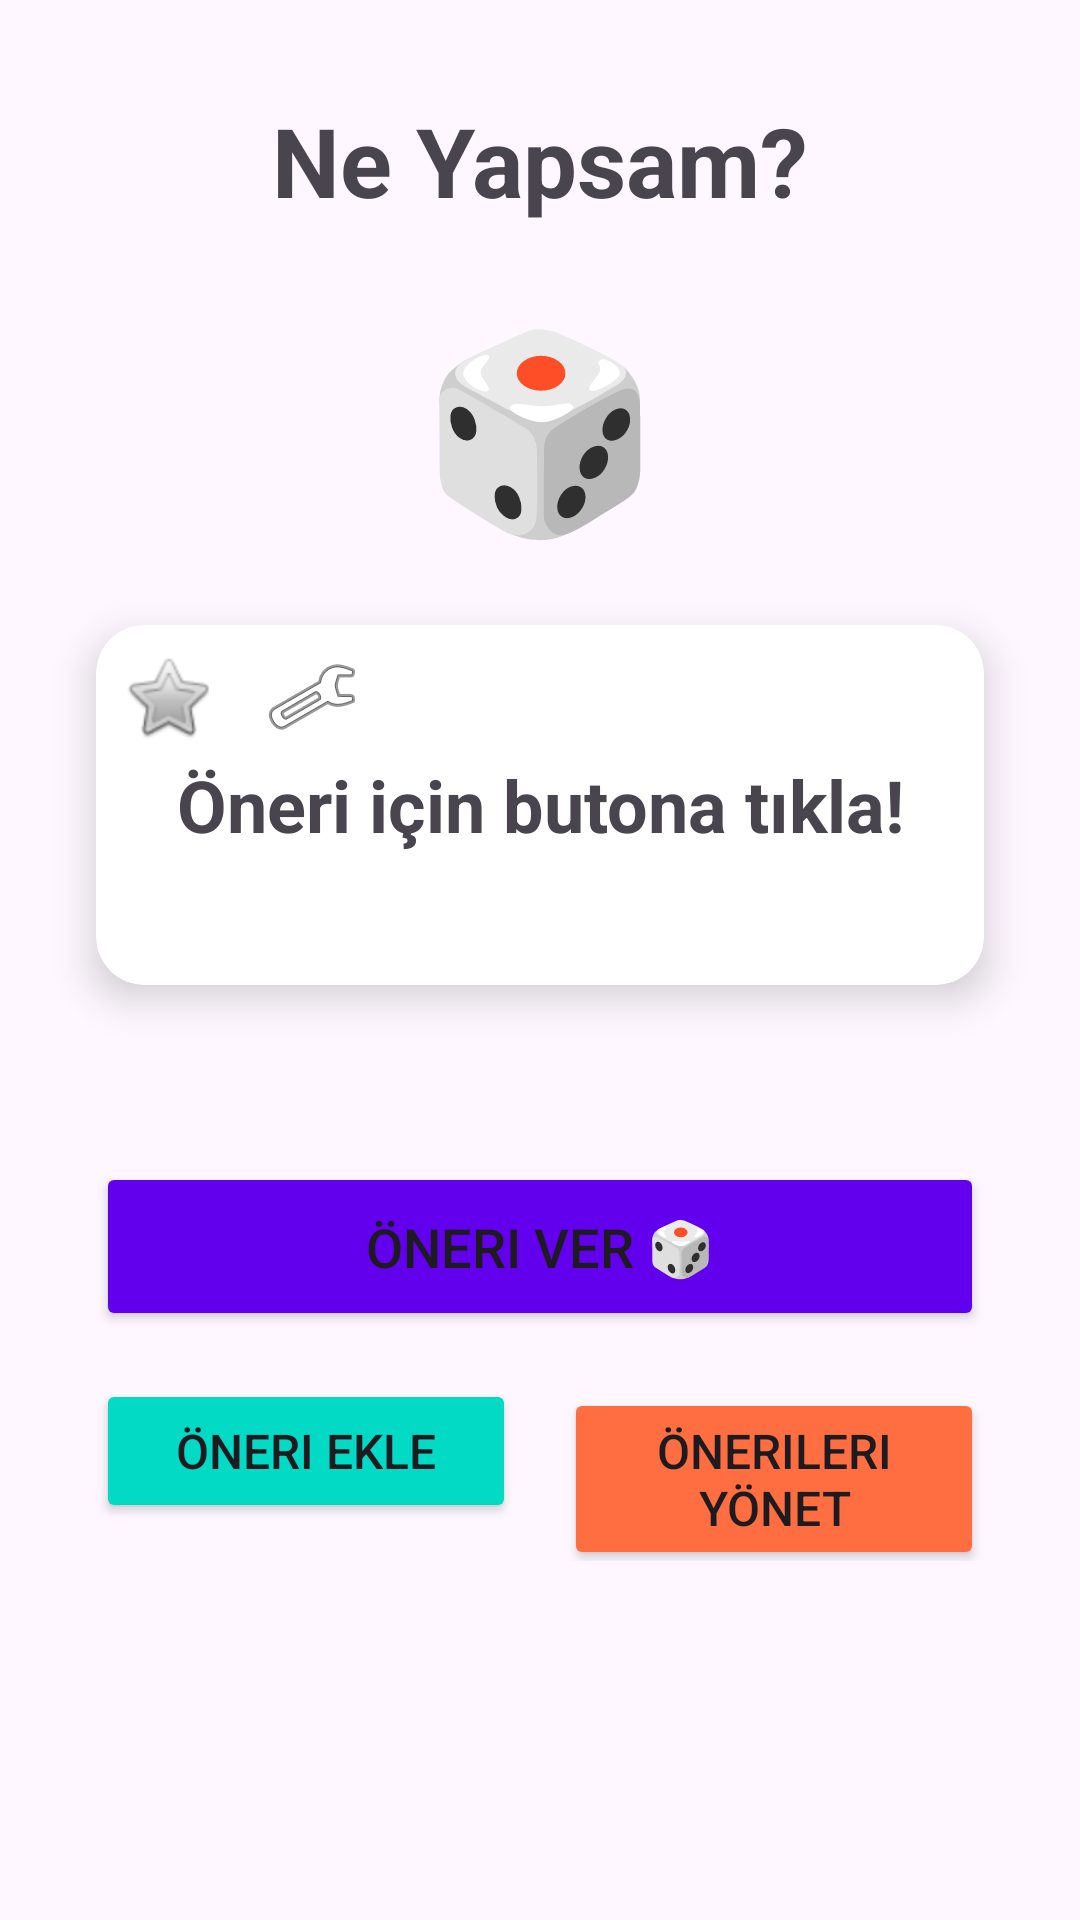

Icons on this 1080w x 1920h Android screen, each with its box as [x1,y1,x2,y2]:
Ayarlar: [269,664,355,730]
Favorilere Ekle: [129,659,209,737]
